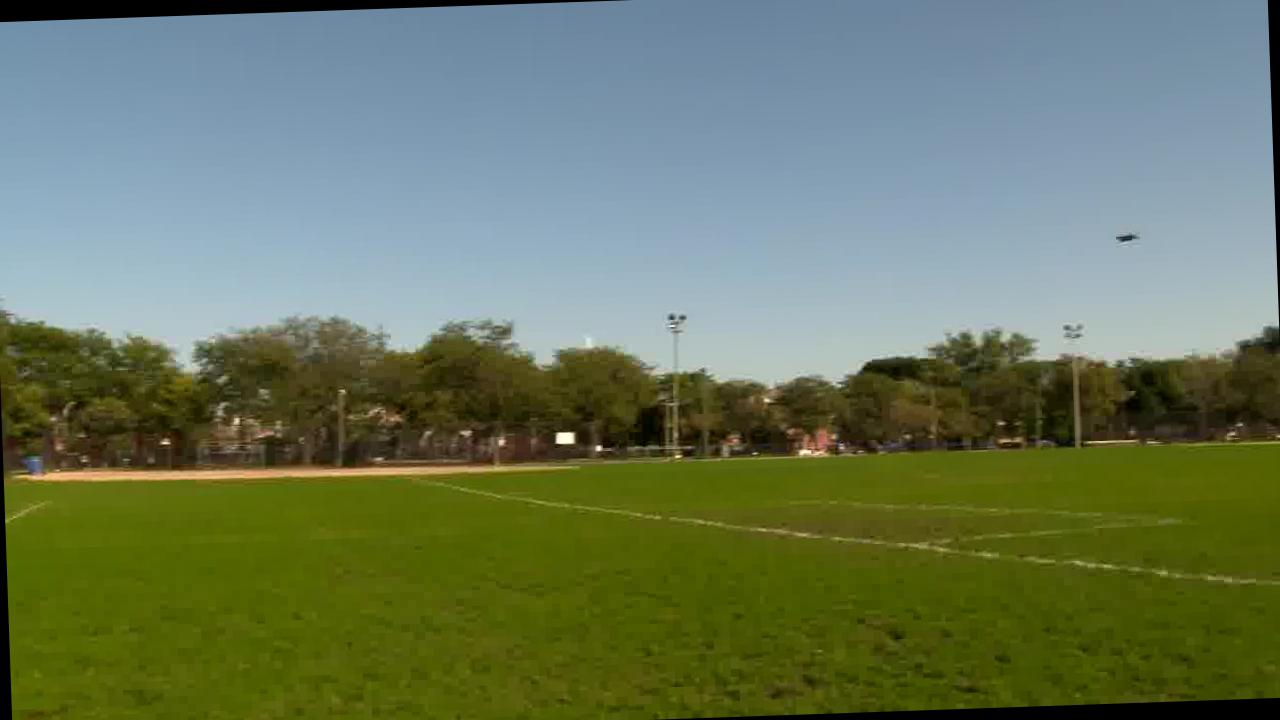drone: (1100, 226, 1146, 252)
